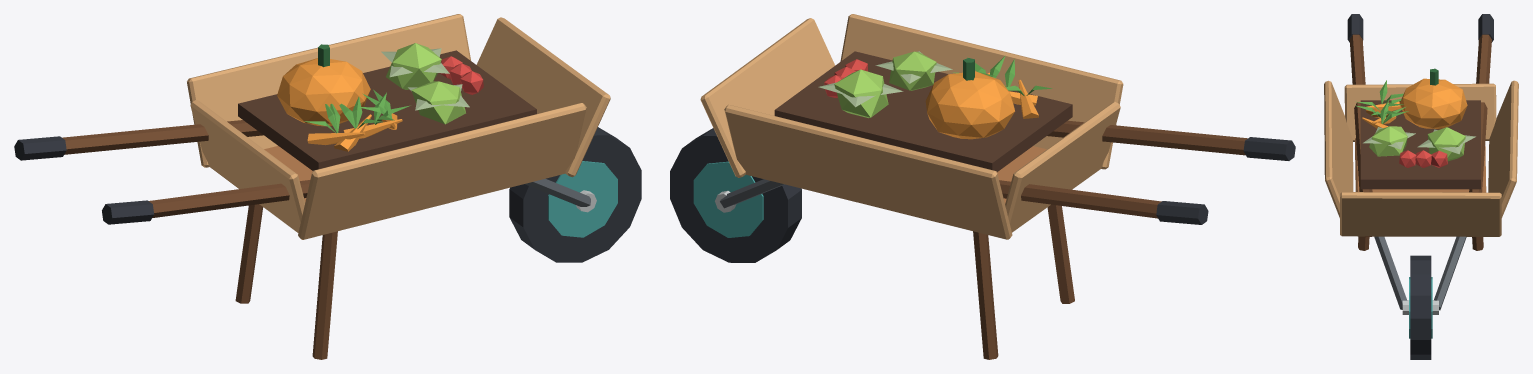
File: wheelbarrow.glb
3 views of the same model, side by side, from view 1: azimuth 30°, elevation 25°; view 2: azimuth 150°, elevation 25°; view 3: azimuth 270°, elevation 25° (orthographic). The views are drawn at different scales.
Visible parts, largest first — view 1: Wheelbarrow; view 2: Wheelbarrow; view 3: Wheelbarrow.
Part boxes in pixels (x1,y1,x2,y2): Wheelbarrow: (14,14,641,359); Wheelbarrow: (670,14,1295,359); Wheelbarrow: (1324,14,1518,359).
Bounding box in the file's own units: 1.89 × 0.8328 × 0.7465.
Materials: 1 (1 with a texture image).
